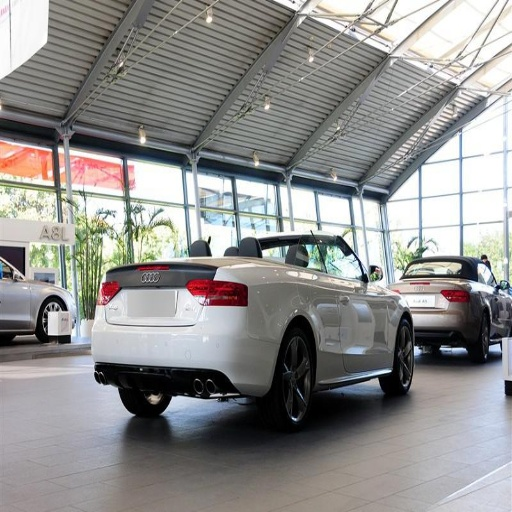_background_: (89, 305, 278, 395)
back_bumper: (223, 49, 366, 120)
back_left_light: (304, 241, 350, 377)
front_left_light: (342, 247, 383, 373)
tailgate: (100, 264, 214, 326), (250, 267, 299, 344)
trunk: (274, 332, 314, 429), (383, 321, 413, 396)
